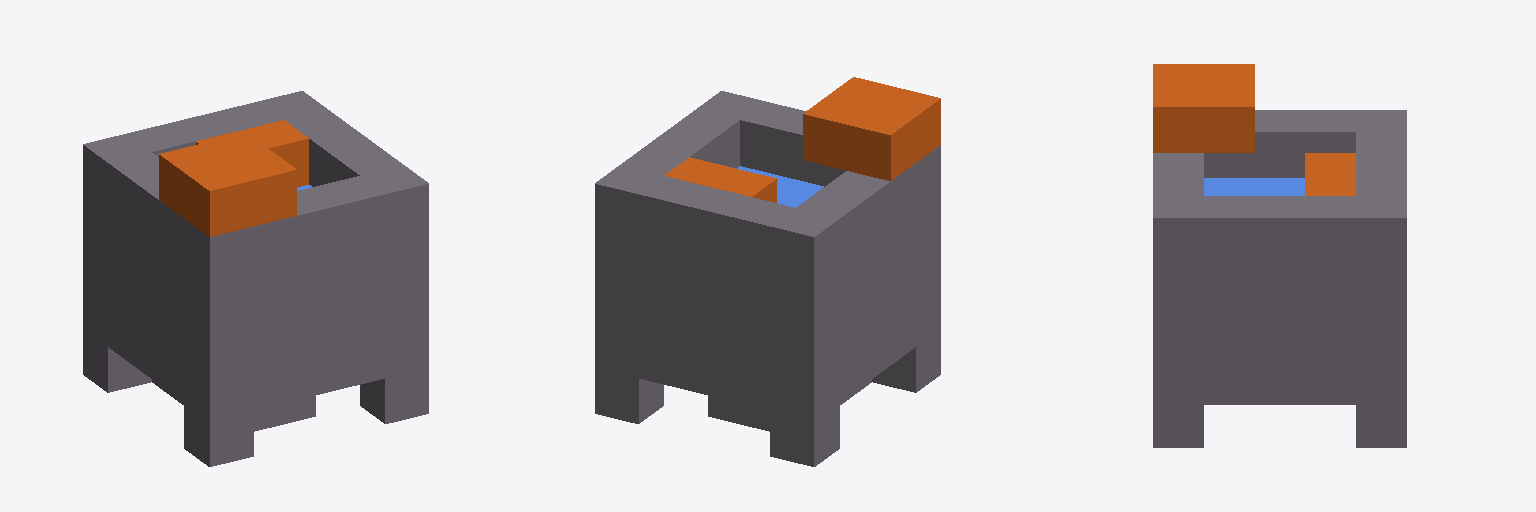
3 renders of one model, left to right at view 1: azimuth 30°, elevation 25°; view 2: azimuth 150°, elevation 25°; view 3: azimuth 270°, elevation 25°, orthographic.
Parts seen in each view (by area): view 1: object 1; view 2: object 1; view 3: object 1.
Part boxes in pixels (x1,y1,x2,y2): object 1: (83, 91, 428, 466); object 1: (595, 77, 940, 466); object 1: (1153, 64, 1406, 447).
Size of the model in its own units: 0.5 by 0.6 by 0.5.
Materials: 1 (1 with a texture image).